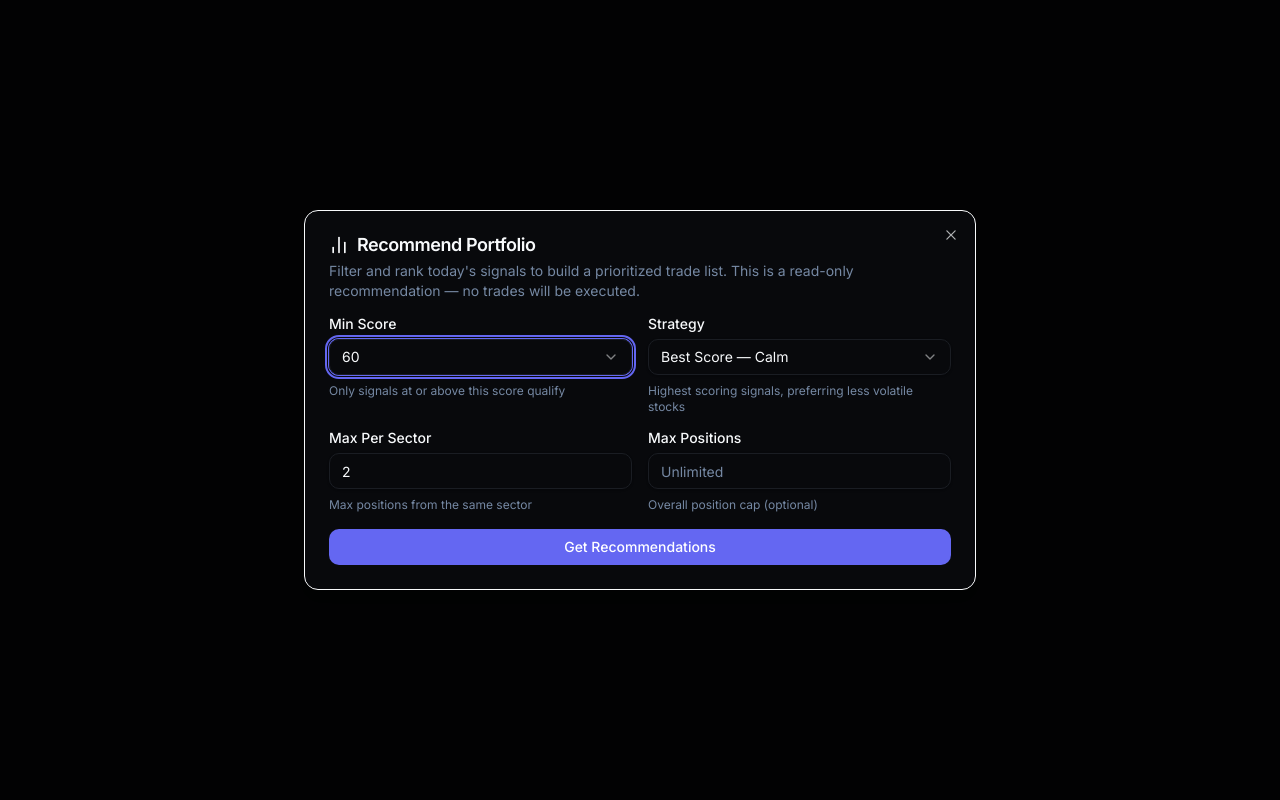
Test: RecommendPortfolioDialog › Results display › renders the results table when API returns data
Click the button "Get Recommendations".
click(640, 547)  # box [329, 529, 951, 565]
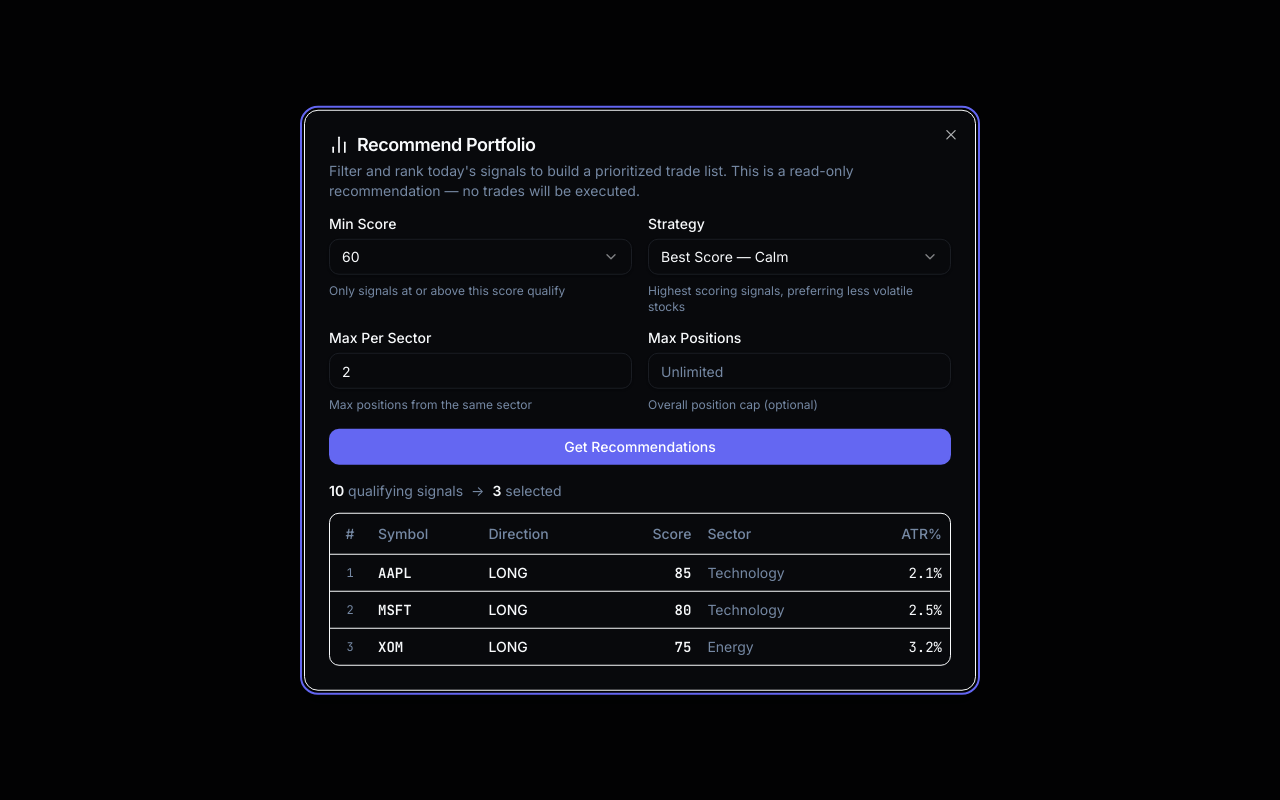
Result: the element with test id "recommendations-result" is shown at [329, 481, 951, 665]
Result: the text "AAPL" is shown at [370, 554, 480, 591]
Result: the text "MSFT" is shown at [370, 591, 480, 628]
